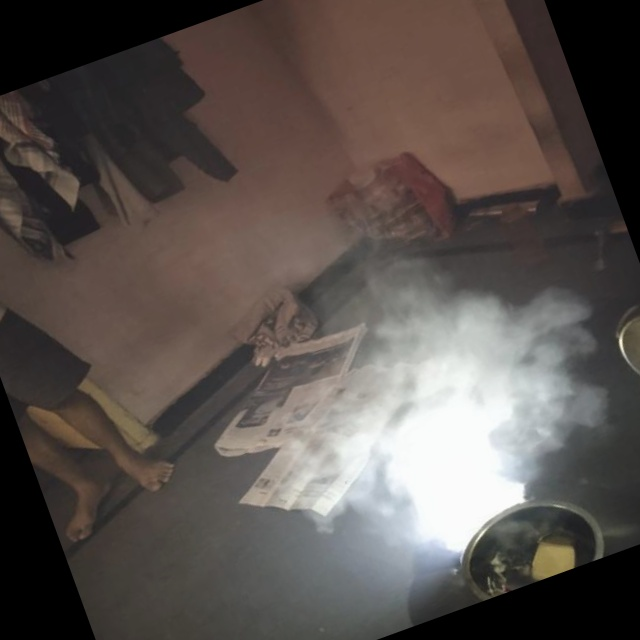smoke: (295, 320, 550, 583)
